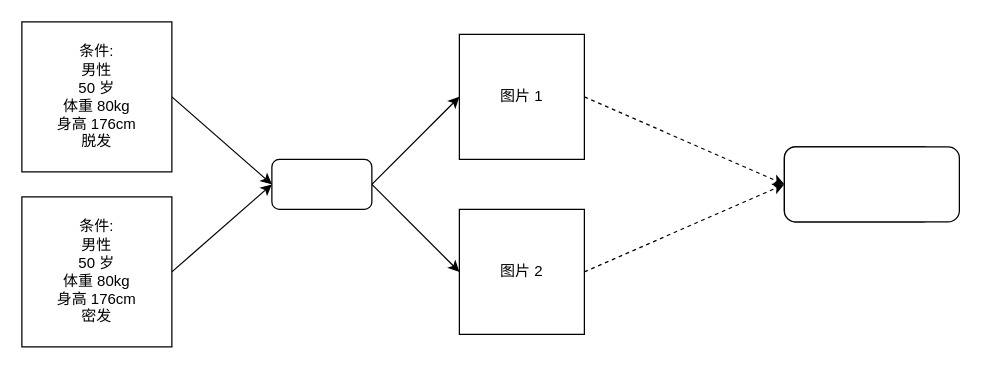
The diagram is 981 pixels wide and 369 high, and some of its shapes have lost their labels. The shapes that lost their labels are listed below. From the top down, each one's centre as x and y in pixels, then its label:
the point at 321,183: 生成网络
the point at 871,184: 拿来做生发液广告😤
